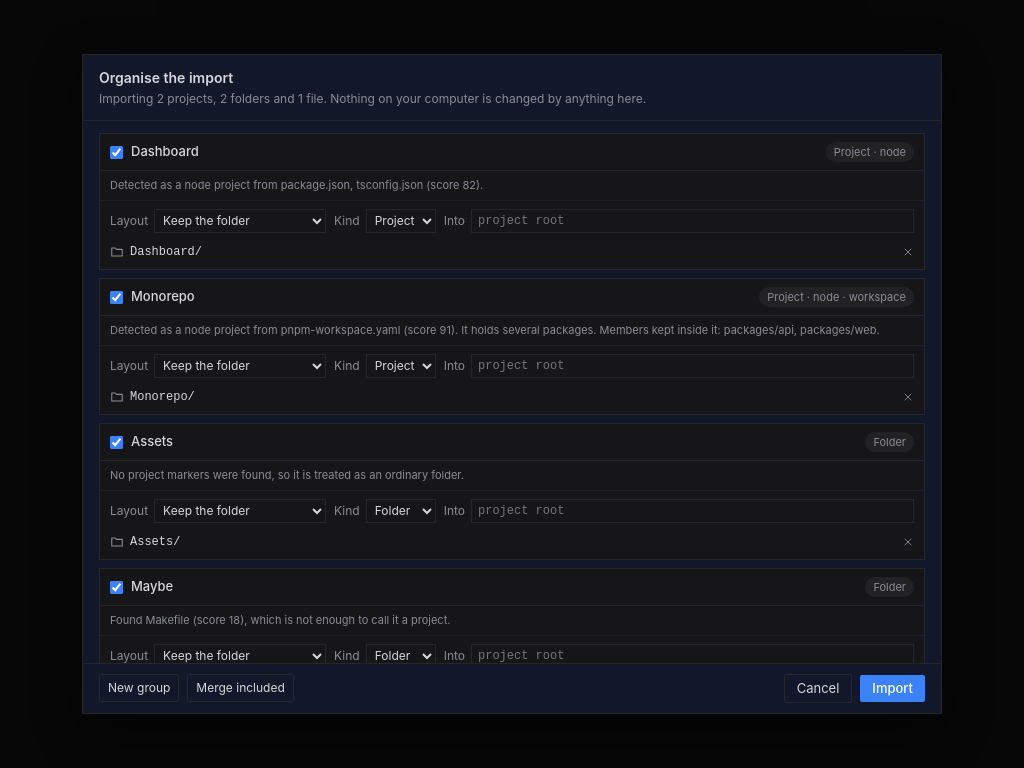
it: group controls › creates a custom group
The image size is (1024, 768).
Click the button "New group" at (139, 688), box left=99, top=674, right=179, bottom=702
(page scrolled)
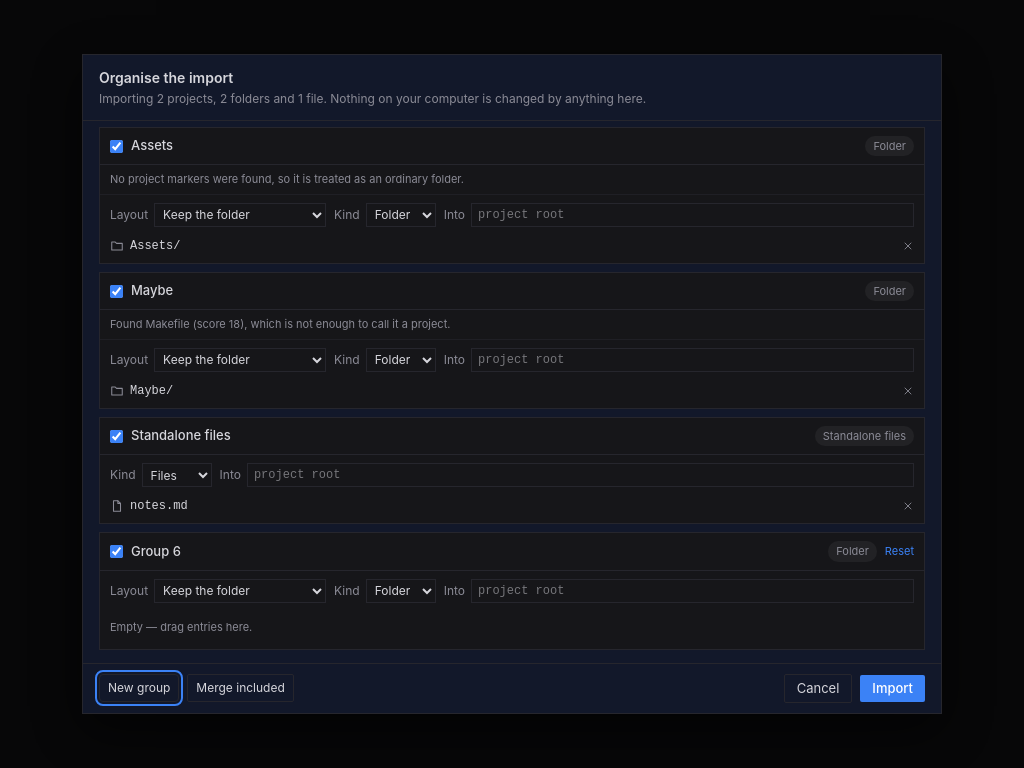
Expected: the button "Group 6" is shown, left=131, top=542, right=820, bottom=561
